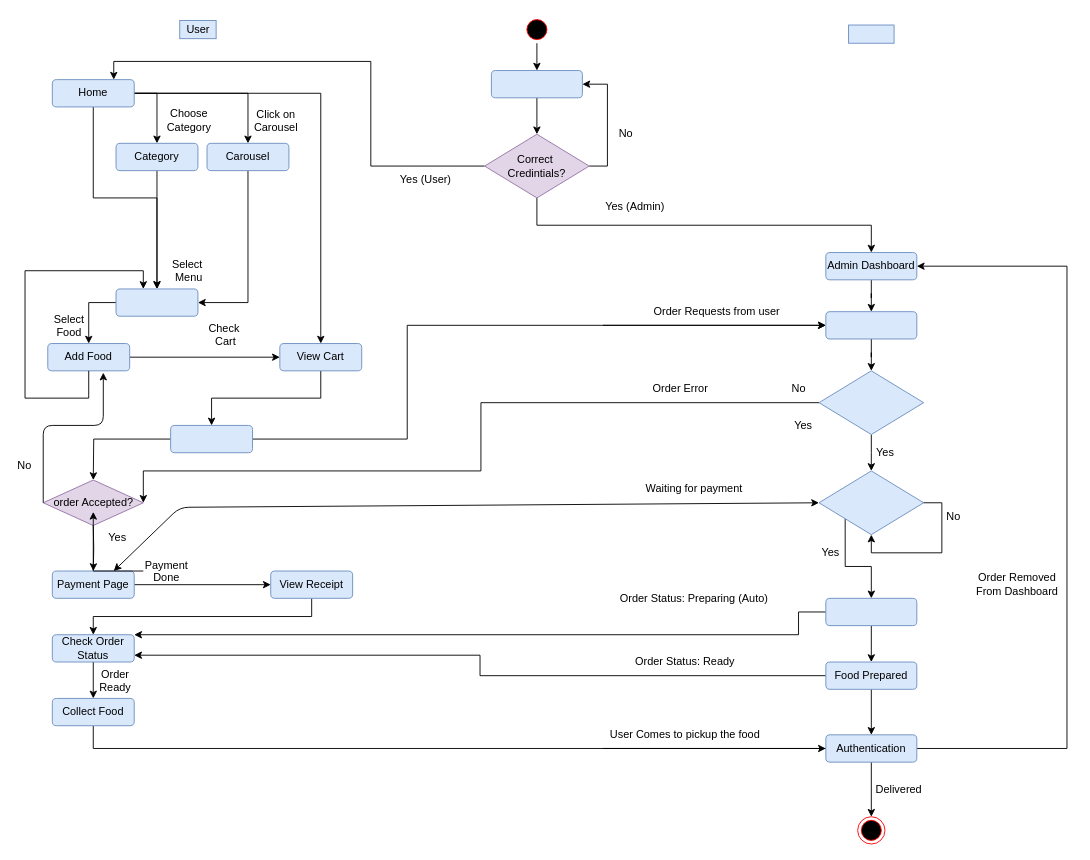
This 1090x860 diagram has some shape labels left out. Here are the shapes that lost their labels. From the top down, the centre of each, then its label:
At point 871,33: "Admin".
At point 536,84: "Log in Page".
At point 156,302: "Menu".
At point 871,325: "Food Requests".
At point 871,402: "Accept Request?".
At point 211,439: "Place Order".
At point 871,502: "Payment Recieved??".
At point 871,611: "Start Preparing Food".
